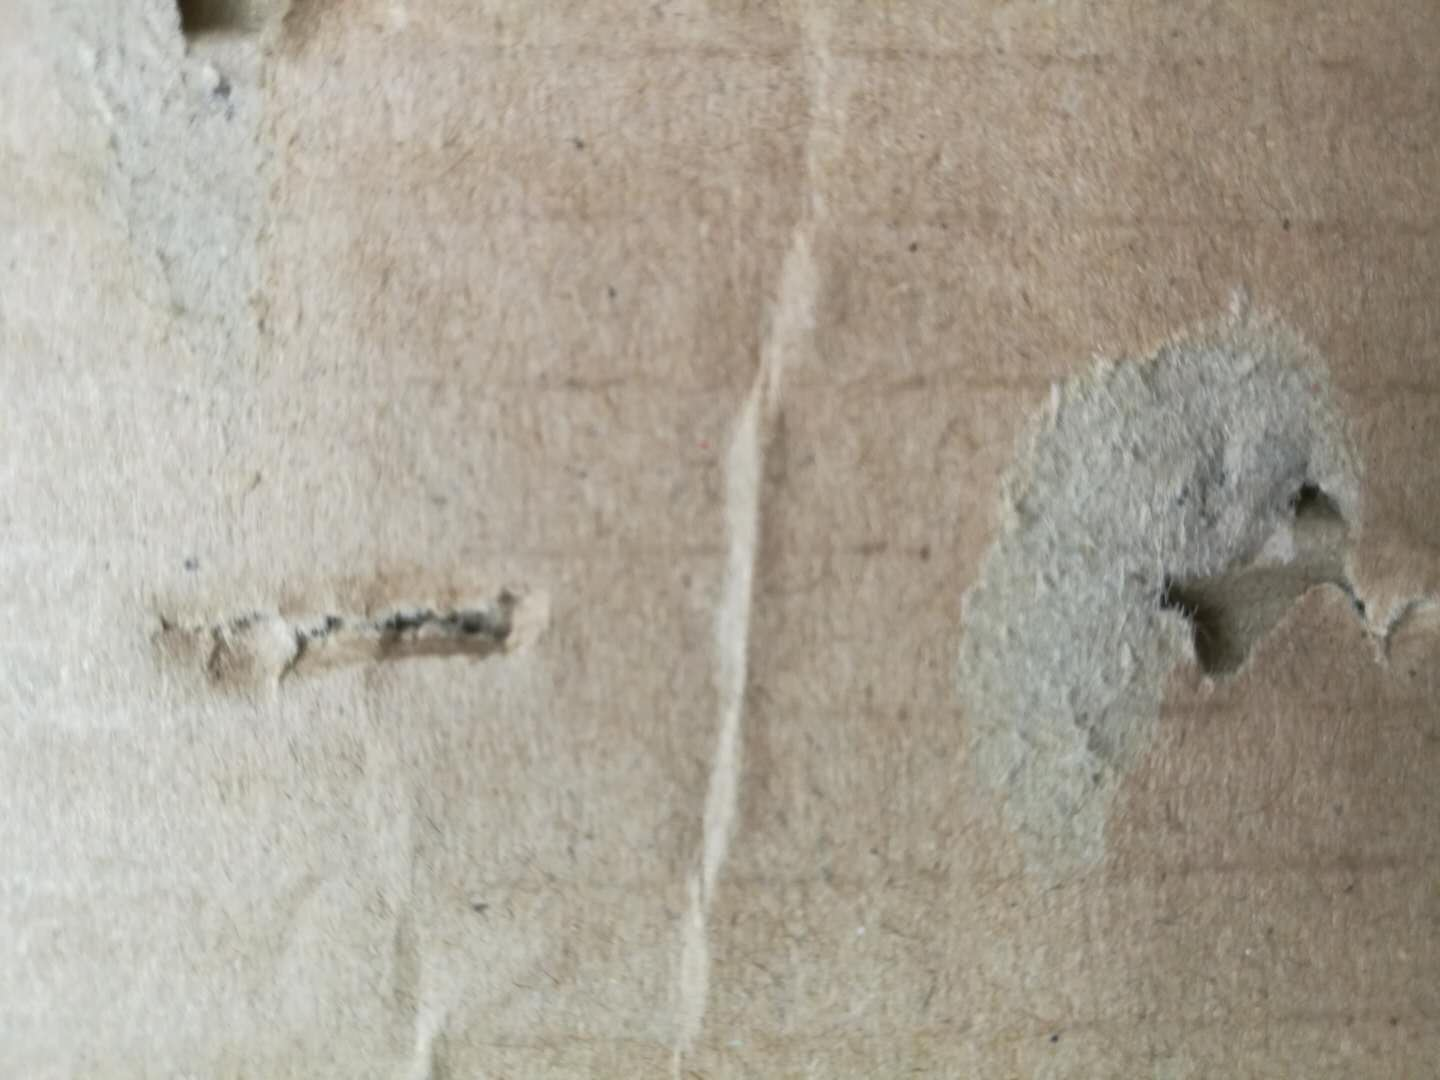defect: (927, 273, 1440, 954), (626, 3, 879, 1080), (22, 1, 358, 492), (127, 534, 578, 732)
